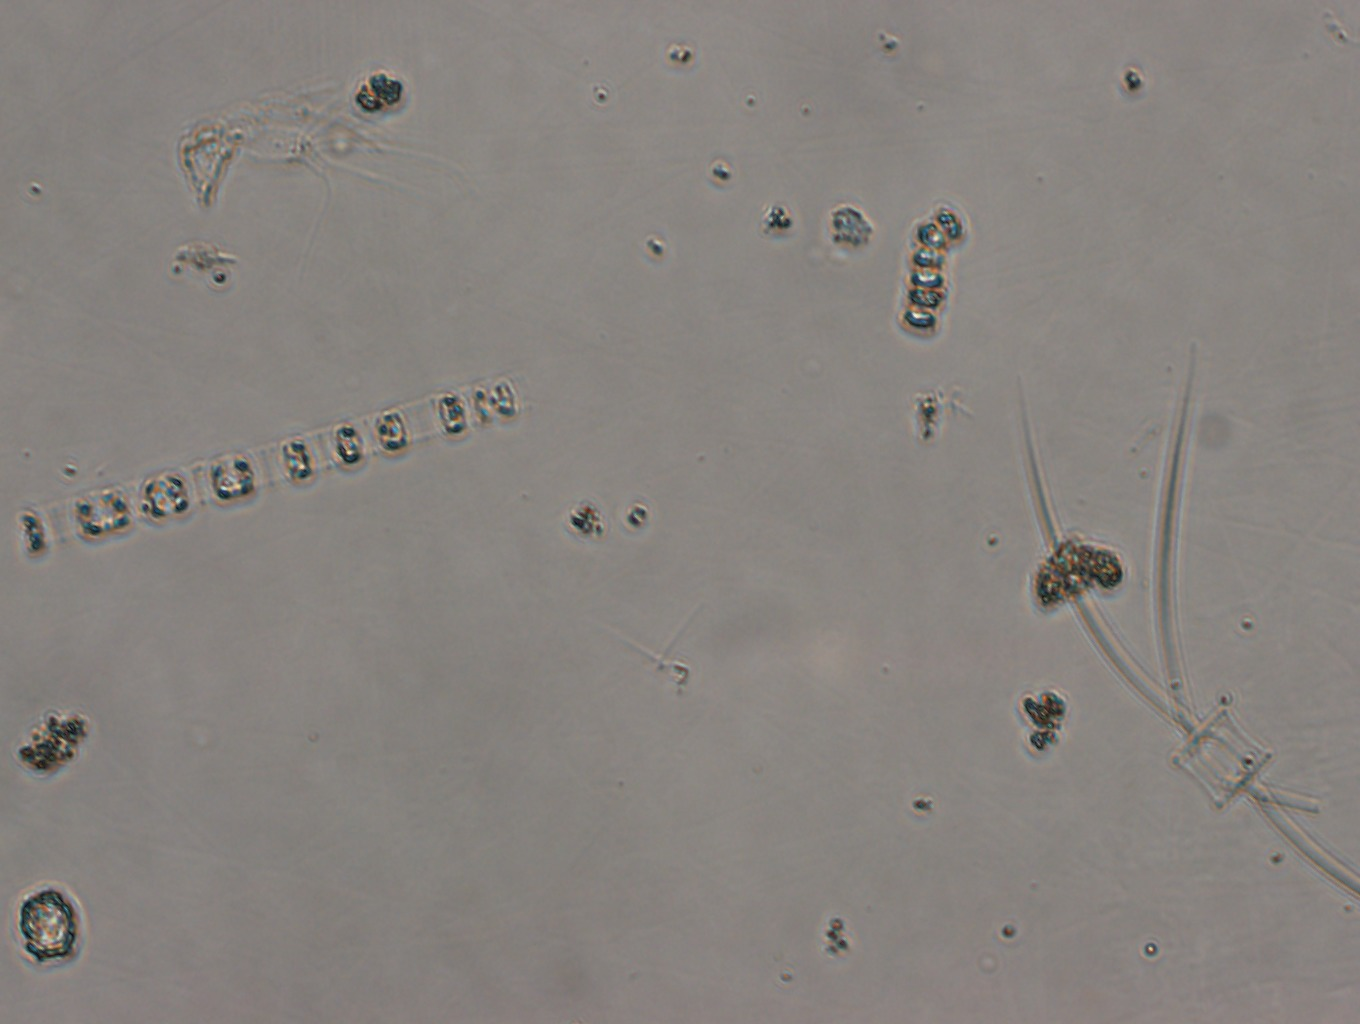chaetoceros: (1015, 349, 1360, 904)
skeletonema: (15, 362, 535, 558), (896, 200, 973, 341)
